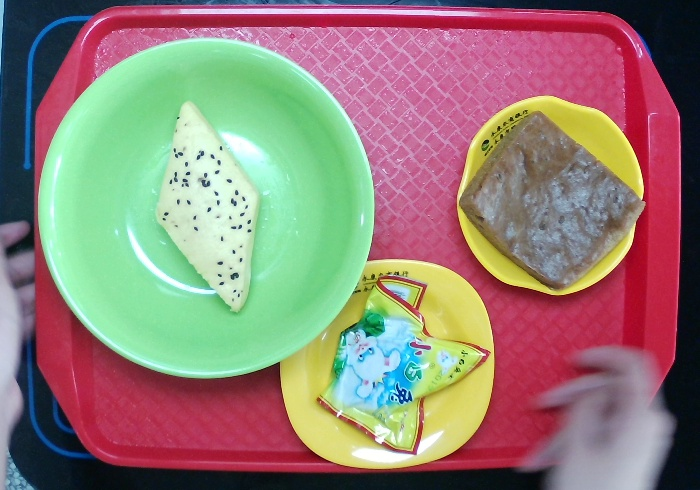YKMZ-Huang_Se_Ao_Bian_Wan: (455, 94, 648, 297)
YKMZ-Huang_Se_Fang_Die: (275, 257, 497, 471)
YKMZ-Lv_Se_Tang_Wan: (35, 34, 376, 381)
